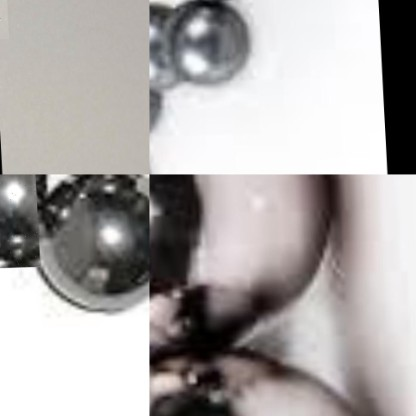ironball: (149, 174, 333, 350), (30, 174, 149, 324), (149, 346, 373, 414), (151, 6, 265, 99), (0, 174, 37, 269)
